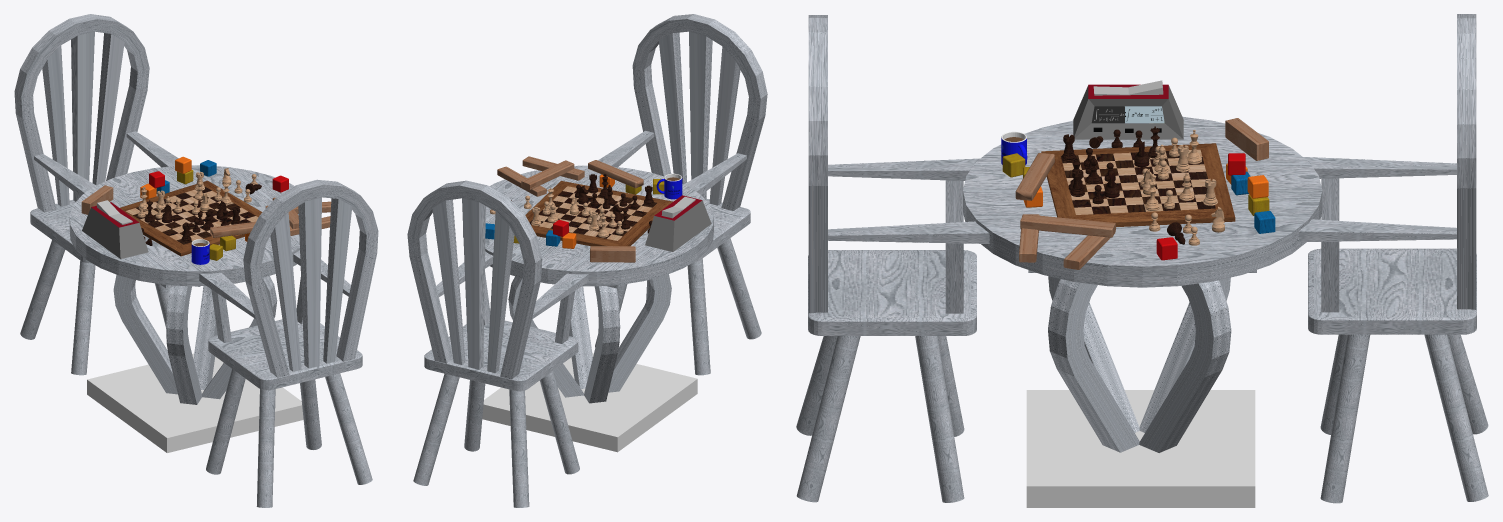
Rendered from Chess6.fbx.
3 views of the same model, side by side, from view 1: azimuth 30°, elevation 25°; view 2: azimuth 150°, elevation 25°; view 3: azimuth 270°, elevation 25° (orthographic). The views are drawn at different scales.
Visible parts, largest first — view 1: Cube.001, Table, Cube.003, ChessBoard, TimerStoparca.001, trikocke.004, OneKocka, coffemug; view 2: Cube.003, Table, Cube.001, ChessBoard, TimerStoparca.001, OneKocka, trikocke.001, trikocke.004, trikocke.002, coffemug, trikocke.003; view 3: Table, Cube.003, Cube.001, ChessBoard, TimerStoparca.001, trikocke.001, OneKocka, trikocke.004, trikocke.003.
Boxes of the visible parts, bbox=[...] form: Cube.001: bbox=[199, 179, 378, 507]; Table: bbox=[69, 165, 303, 452]; Cube.003: bbox=[14, 14, 178, 375]; ChessBoard: bbox=[120, 180, 262, 256]; TimerStoparca.001: bbox=[82, 200, 148, 258]; trikocke.004: bbox=[210, 221, 255, 237]; OneKocka: bbox=[81, 185, 113, 214]; coffemug: bbox=[191, 239, 209, 264]; Cube.003: bbox=[407, 180, 588, 507]; Table: bbox=[463, 165, 713, 452]; Cube.001: bbox=[595, 14, 767, 375]; ChessBoard: bbox=[525, 180, 672, 246]; TimerStoparca.001: bbox=[645, 195, 711, 251]; OneKocka: bbox=[590, 246, 635, 262]; trikocke.001: bbox=[521, 160, 574, 190]; trikocke.004: bbox=[588, 160, 643, 188]; trikocke.002: bbox=[522, 156, 584, 180]; coffemug: bbox=[656, 173, 682, 199]; trikocke.003: bbox=[497, 166, 546, 196]; Table: bbox=[963, 116, 1322, 507]; Cube.003: bbox=[1299, 14, 1488, 503]; Cube.001: bbox=[796, 15, 989, 502]; ChessBoard: bbox=[1041, 143, 1235, 227]; TimerStoparca.001: bbox=[1073, 80, 1183, 139]; trikocke.001: bbox=[1020, 214, 1115, 237]; OneKocka: bbox=[1225, 118, 1268, 160]; trikocke.004: bbox=[1015, 153, 1054, 200]; trikocke.003: bbox=[1063, 233, 1114, 269].
Size of the model in its own units: 4189 by 5582 by 7906.
